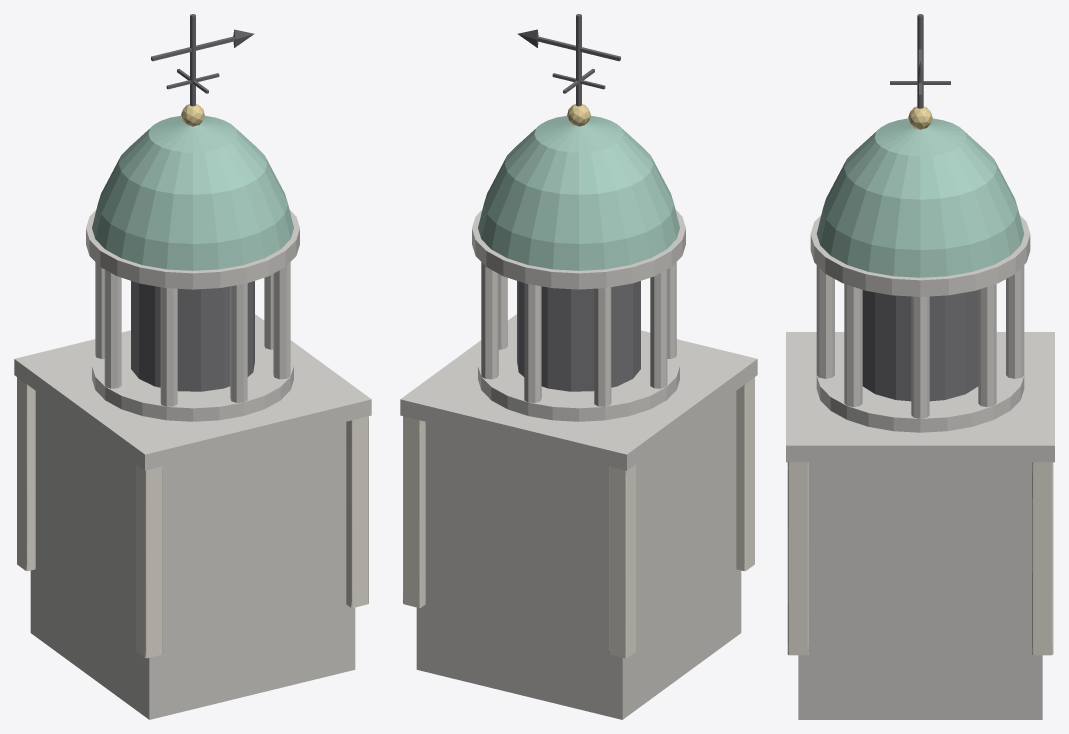
The model's file is cupola.glb.
The picture shows the model from 3 angles, left to right: view 1: azimuth 30°, elevation 25°; view 2: azimuth 150°, elevation 25°; view 3: azimuth 270°, elevation 25°; orthographic projection. The views are drawn at different scales.
Visible parts, largest first — view 1: cupola_trim, cupola_copper, cupola_lime, cupola_dark, cupola_pole; view 2: cupola_trim, cupola_copper, cupola_lime, cupola_dark, cupola_pole; view 3: cupola_trim, cupola_copper, cupola_dark, cupola_lime, cupola_pole, cupola_brass.
Part boxes in pixels (left/top/right/bottom): cupola_trim: left=14, top=210, right=371, bottom=719; cupola_copper: left=92, top=115, right=293, bottom=270; cupola_lime: left=17, top=377, right=368, bottom=658; cupola_dark: left=131, top=281, right=254, bottom=391; cupola_pole: left=151, top=14, right=254, bottom=106; cupola_trim: left=400, top=210, right=757, bottom=719; cupola_copper: left=478, top=115, right=679, bottom=270; cupola_lime: left=403, top=377, right=754, bottom=658; cupola_dark: left=517, top=281, right=640, bottom=391; cupola_pole: left=517, top=14, right=620, bottom=106; cupola_trim: left=786, top=215, right=1054, bottom=719; cupola_copper: left=816, top=118, right=1024, bottom=277; cupola_dark: left=862, top=290, right=978, bottom=401; cupola_lime: left=787, top=462, right=1053, bottom=655; cupola_pole: left=890, top=14, right=950, bottom=108; cupola_brass: left=908, top=106, right=932, bottom=129.
Bounding box in the file's own units: 1.76 × 4.72 × 1.76.
